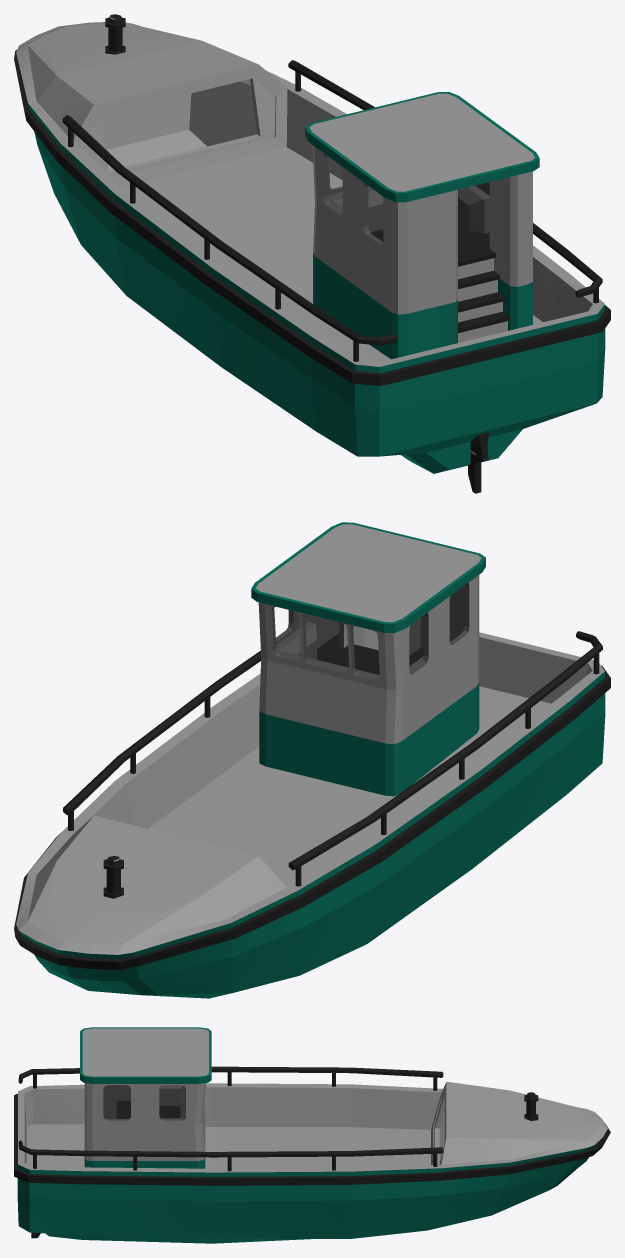
The model's file is fisher_2.FBX.
3 renders of one model, top to bottom at view 1: azimuth 30°, elevation 25°; view 2: azimuth 150°, elevation 25°; view 3: azimuth 270°, elevation 25°, orthographic. The views are drawn at different scales.
Visible parts, largest first — view 1: fisher_2; view 2: fisher_2; view 3: fisher_2.
Part boxes in pixels (box(x1,y1,x2,y2)): fisher_2: box(14, 14, 610, 493); fisher_2: box(14, 522, 610, 998); fisher_2: box(14, 1027, 610, 1243).
Size of the model in its own units: 128 by 125 by 347.
